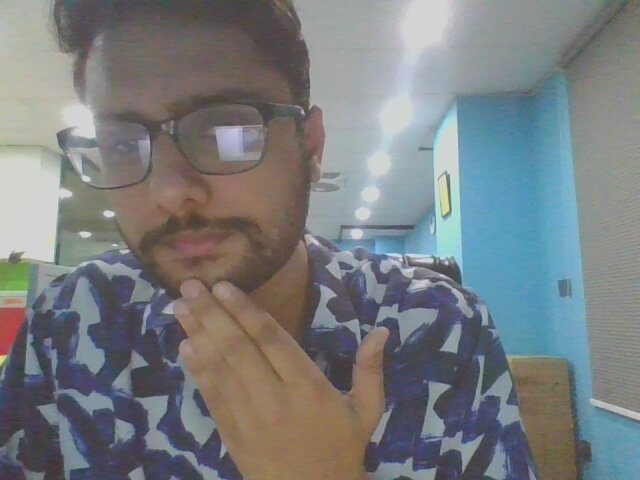thanks: (151, 273, 414, 480)
